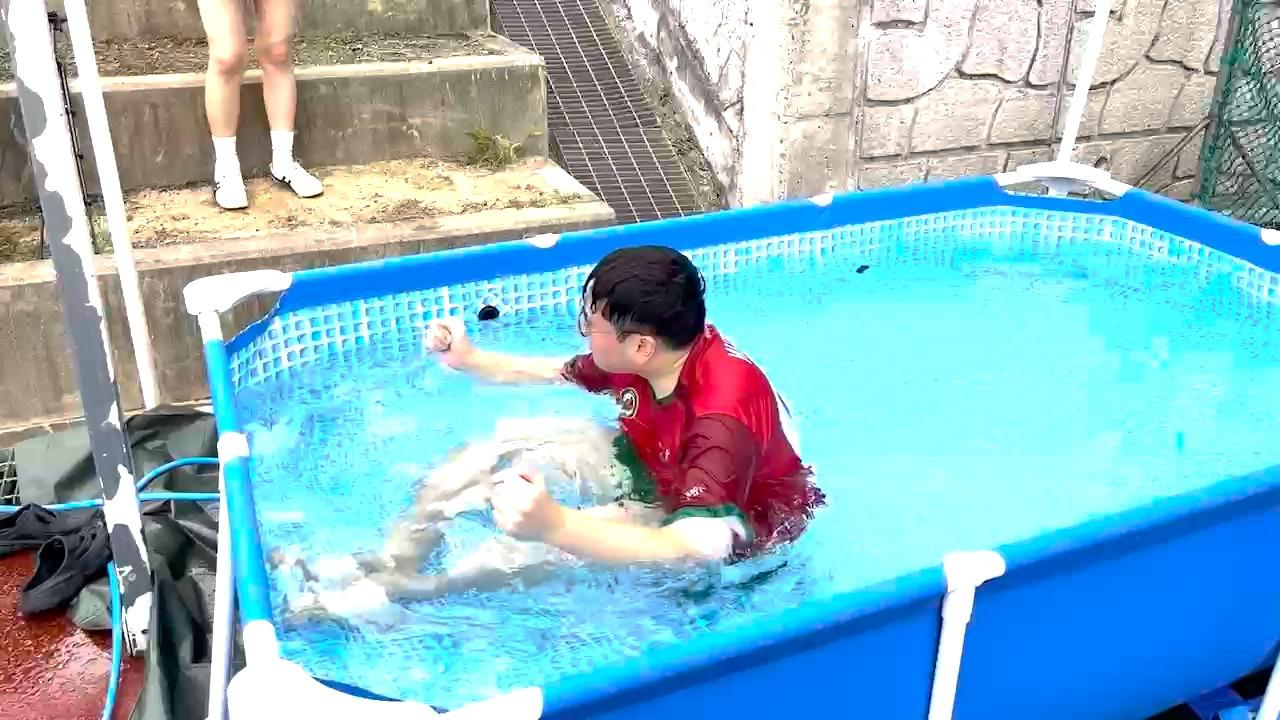Swimming: (279, 193, 884, 642)
